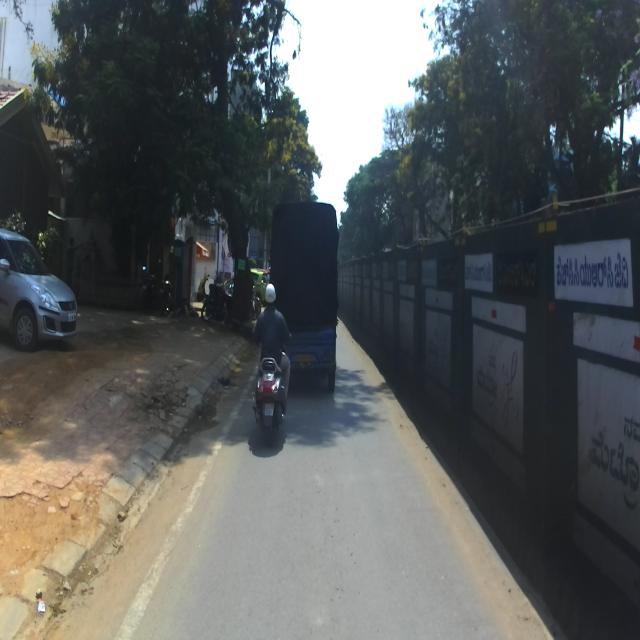car ahead at: (2, 226, 78, 352)
motorcycle ahead at: (253, 356, 290, 440)
truck ahead at: (274, 210, 339, 385)
